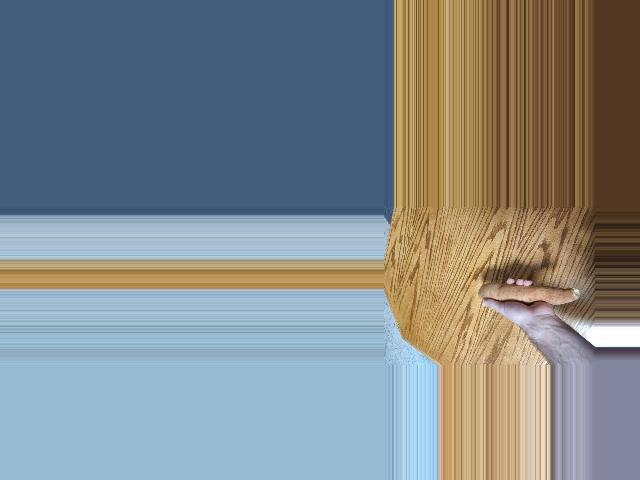sweet_potato: (471, 278, 581, 311)
